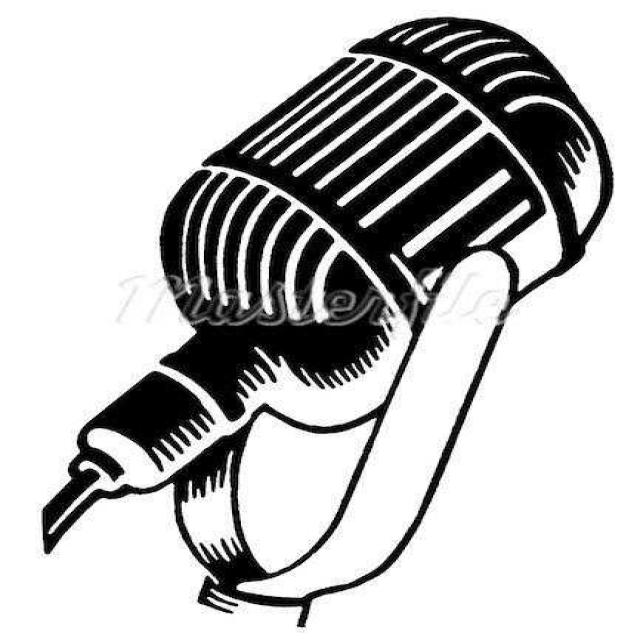microphone: (74, 22, 604, 519)
